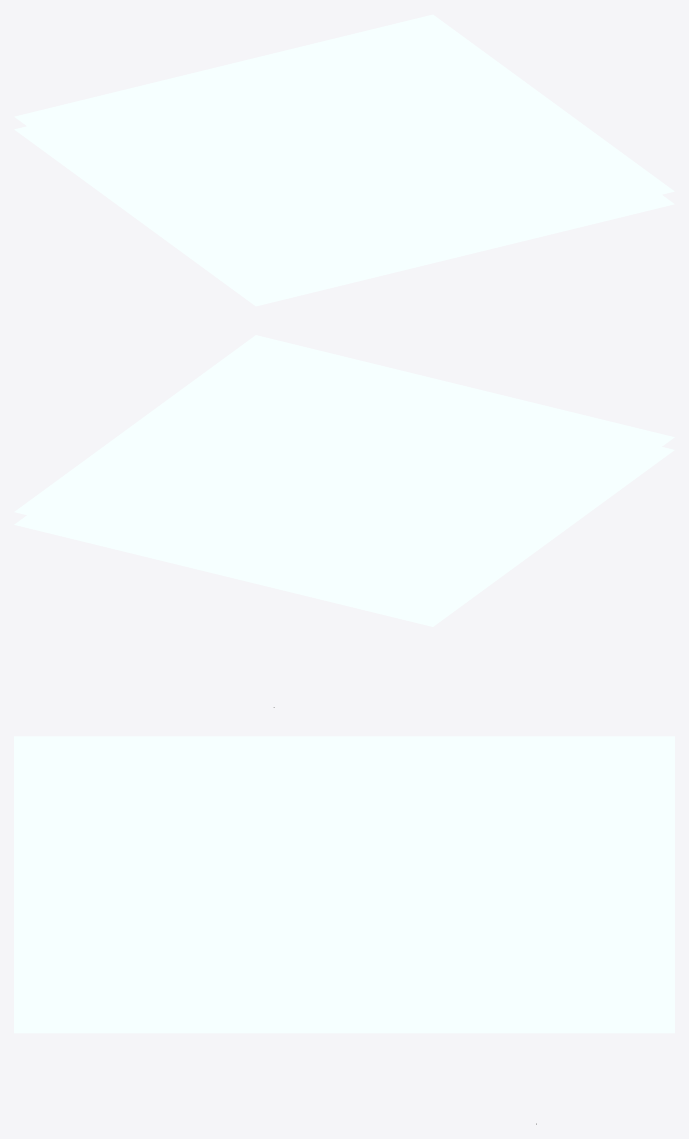
Rendered from z_plate.glb.
3 views of the same model, one above another, from view 1: azimuth 30°, elevation 25°; view 2: azimuth 150°, elevation 25°; view 3: azimuth 270°, elevation 25° (orthographic). The views are drawn at different scales.
Visible parts, largest first — view 1: Cube.003_Black resin_0; view 2: Cube.003_Black resin_0; view 3: Cube.003_Black resin_0.
Part boxes in pixels (x1,y1,x2,y2): Cube.003_Black resin_0: (14,14,674,306); Cube.003_Black resin_0: (14,335,674,626); Cube.003_Black resin_0: (14,736,674,1033).
Bounding box in the file's own units: 1378 × 571 × 1378.
